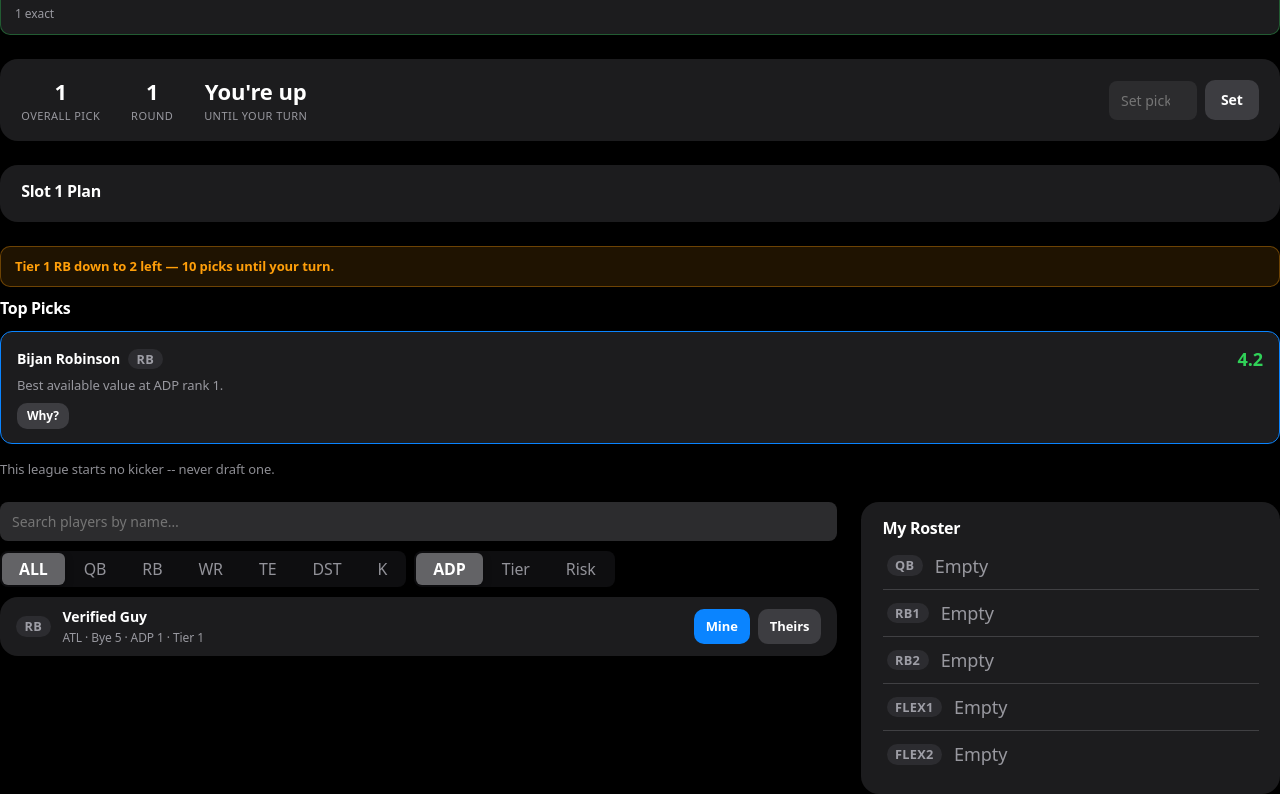
Test: Draft screen › distinguishes a measured-accuracy analyst take from an unverified one
(page scrolled)
Expected: the element with test id "board-list" is shown, [0, 502, 837, 656]
Click the button with aria-label "View scouting detail for Verified Guy": [105, 617] box [62, 607, 682, 646]
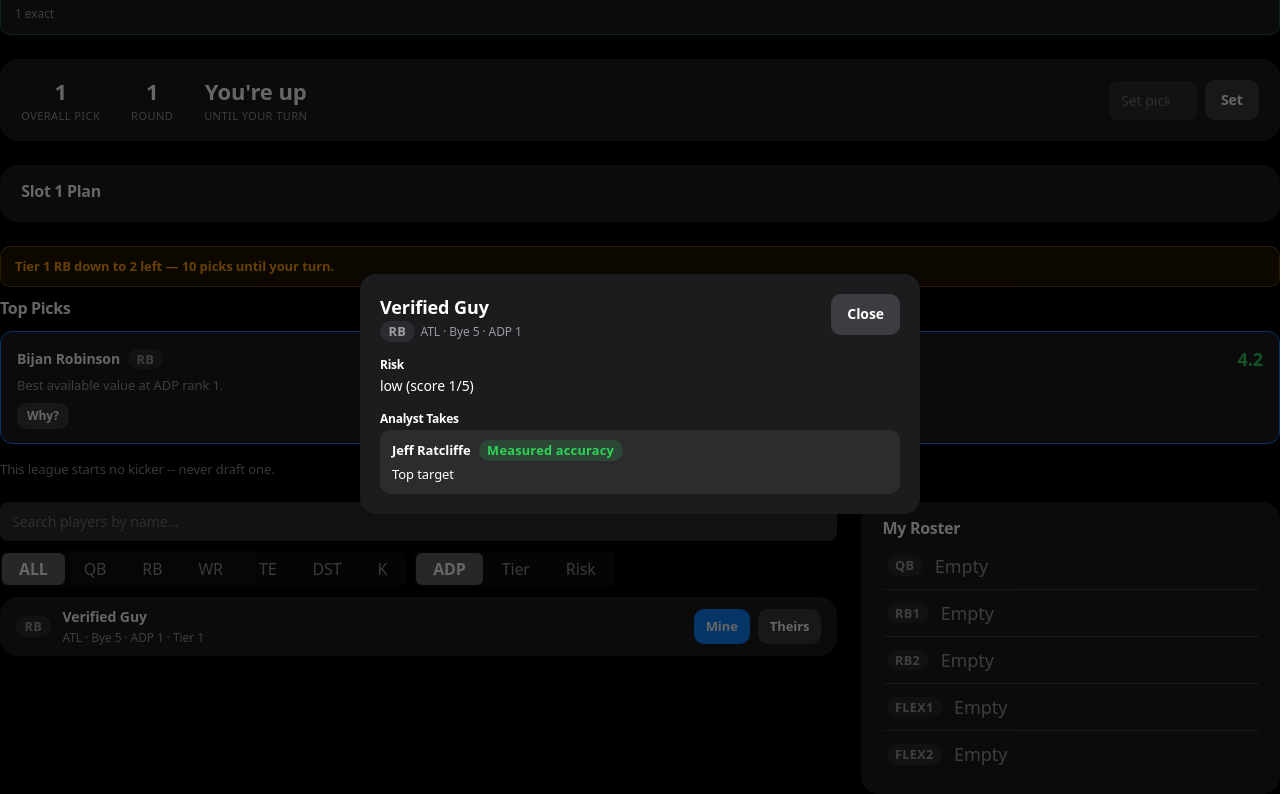
Expected: the text "Measured accuracy" is shown, [479, 440, 623, 461]
